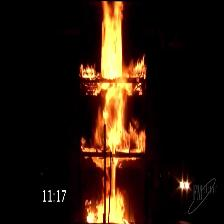fire: (99, 3, 129, 222)
